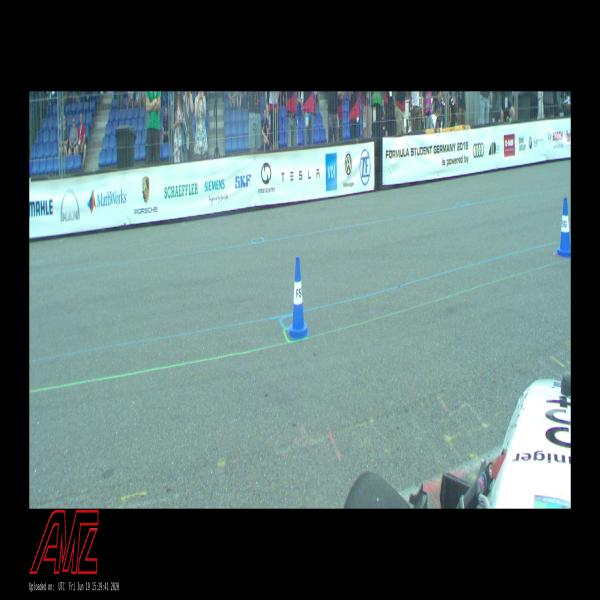blue_cone: (288, 257, 309, 340), (556, 198, 571, 258)
